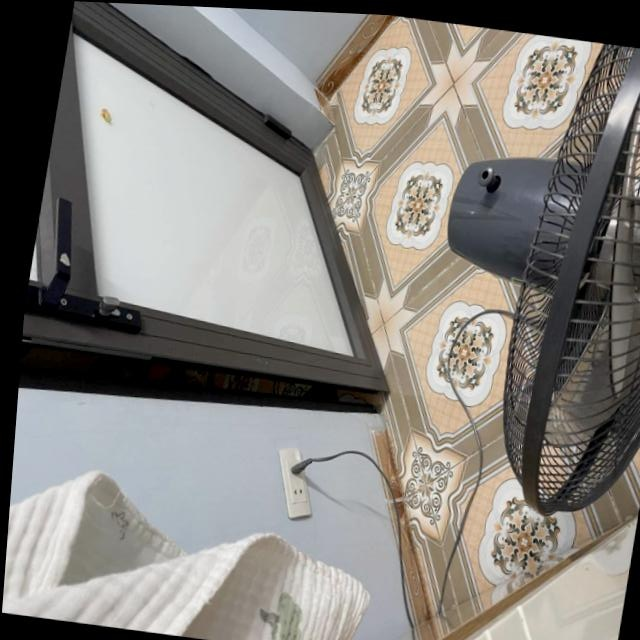outlet: (267, 446, 321, 524)
